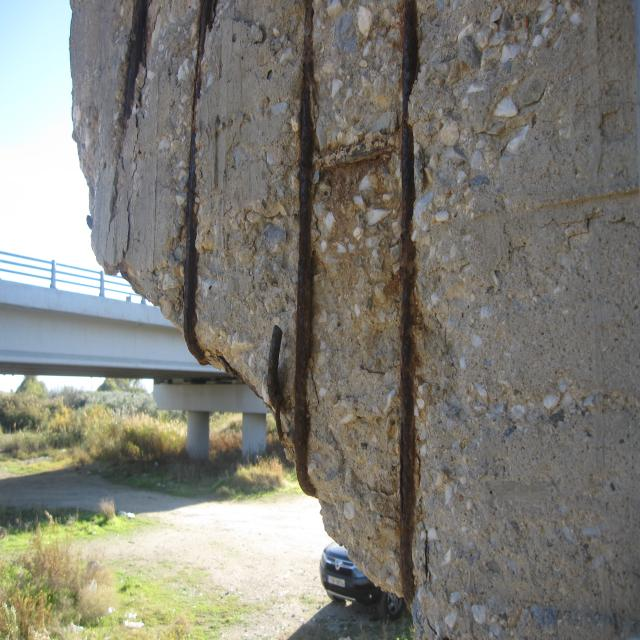corrosion: (266, 5, 431, 618), (169, 0, 231, 378), (106, 0, 155, 217)
